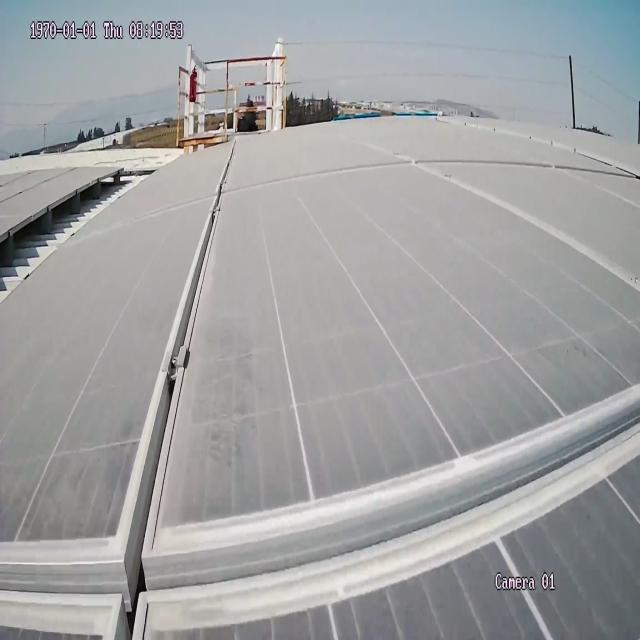interior panel: (0, 125, 640, 640)
outher panel: (0, 161, 170, 320)
